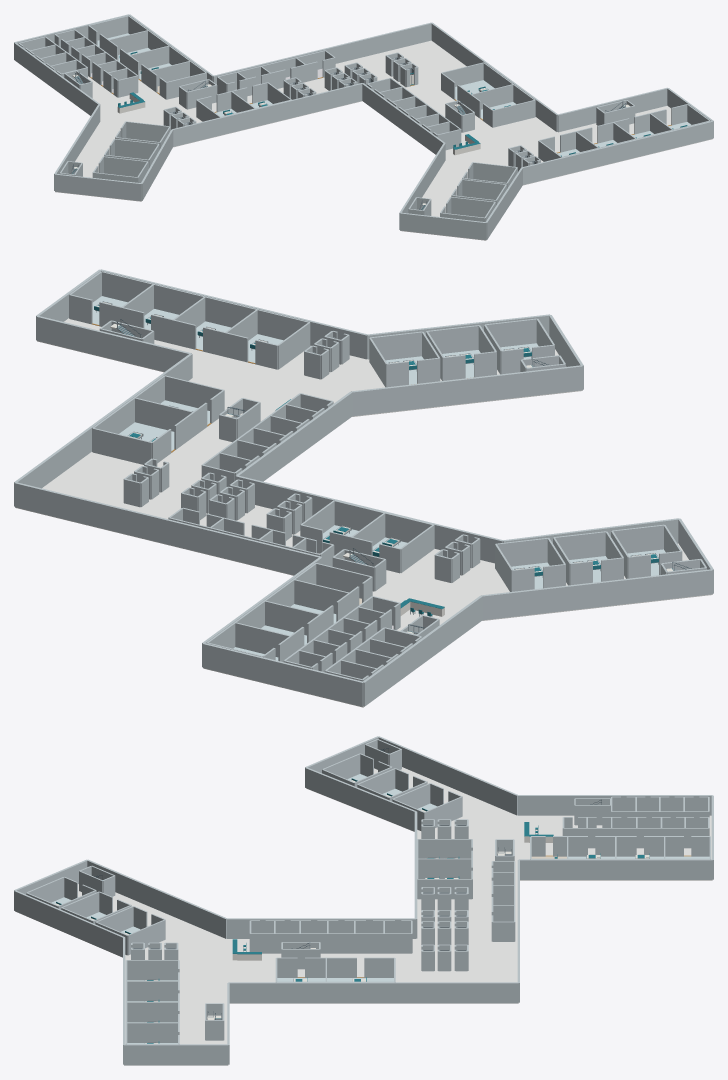
Rendered from dushu-F12.glb.
3 views of the same model, one above another, from view 1: azimuth 30°, elevation 25°; view 2: azimuth 150°, elevation 25°; view 3: azimuth 270°, elevation 25° (orthographic). The views are drawn at different scales.
Parts seen in each view (by area): view 1: Floor slab, wall-6, wall-11, wall-2, wall-13, wall-8, wall-15, wall-10, wall-4, wall-3, wall-90, wall-9 (+20 smaller); view 2: Floor slab, wall-2, wall-14, wall-9, wall-0, wall-4, wall-15, wall-10, wall-11, wall-3, wall-6, wall-84 (+25 smaller); view 3: Floor slab, wall-3, wall-1, wall-14, wall-9, wall-12, wall-7, wall-5, wall-15, wall-10, wall-77, wall-79 (+20 smaller).
Part boxes in pixels (box(x1,y1,x2,y2)): Floor slab: box(55, 40, 712, 240); wall-6: box(522, 121, 713, 184); wall-11: box(172, 83, 362, 146); wall-2: box(213, 22, 431, 84); wall-13: box(55, 173, 141, 200); wall-8: box(400, 212, 486, 240); wall-15: box(14, 42, 99, 115); wall-10: box(362, 83, 445, 154); wall-4: box(557, 87, 667, 132); wall-3: box(431, 22, 557, 131); wall-90: box(492, 100, 535, 127); wall-9: box(399, 143, 445, 229); Floor slab: box(15, 318, 712, 707); wall-2: box(14, 482, 321, 575); wall-14: box(481, 569, 712, 620); wall-9: box(351, 365, 582, 416); wall-0: box(202, 643, 363, 706); wall-4: box(36, 315, 191, 371); wall-15: box(362, 595, 482, 706); wall-10: box(235, 391, 352, 481); wall-11: box(236, 475, 503, 563); wall-3: box(14, 353, 192, 506); wall-6: box(100, 269, 367, 359); wall-84: box(92, 428, 151, 464); Floor slab: box(15, 767, 712, 1065); wall-3: box(228, 982, 518, 1003); wall-1: box(518, 859, 712, 879); wall-14: box(378, 736, 518, 815); wall-9: box(87, 859, 226, 938); wall-12: box(305, 767, 416, 831); wall-7: box(14, 890, 124, 957); wall-5: box(124, 1044, 228, 1065); wall-15: box(518, 795, 712, 815); wall-10: box(227, 918, 415, 938); wall-77: box(418, 858, 471, 878); wall-79: box(418, 839, 471, 858).
Bounding box in the file's own units: 108 × 4.09 × 103.
